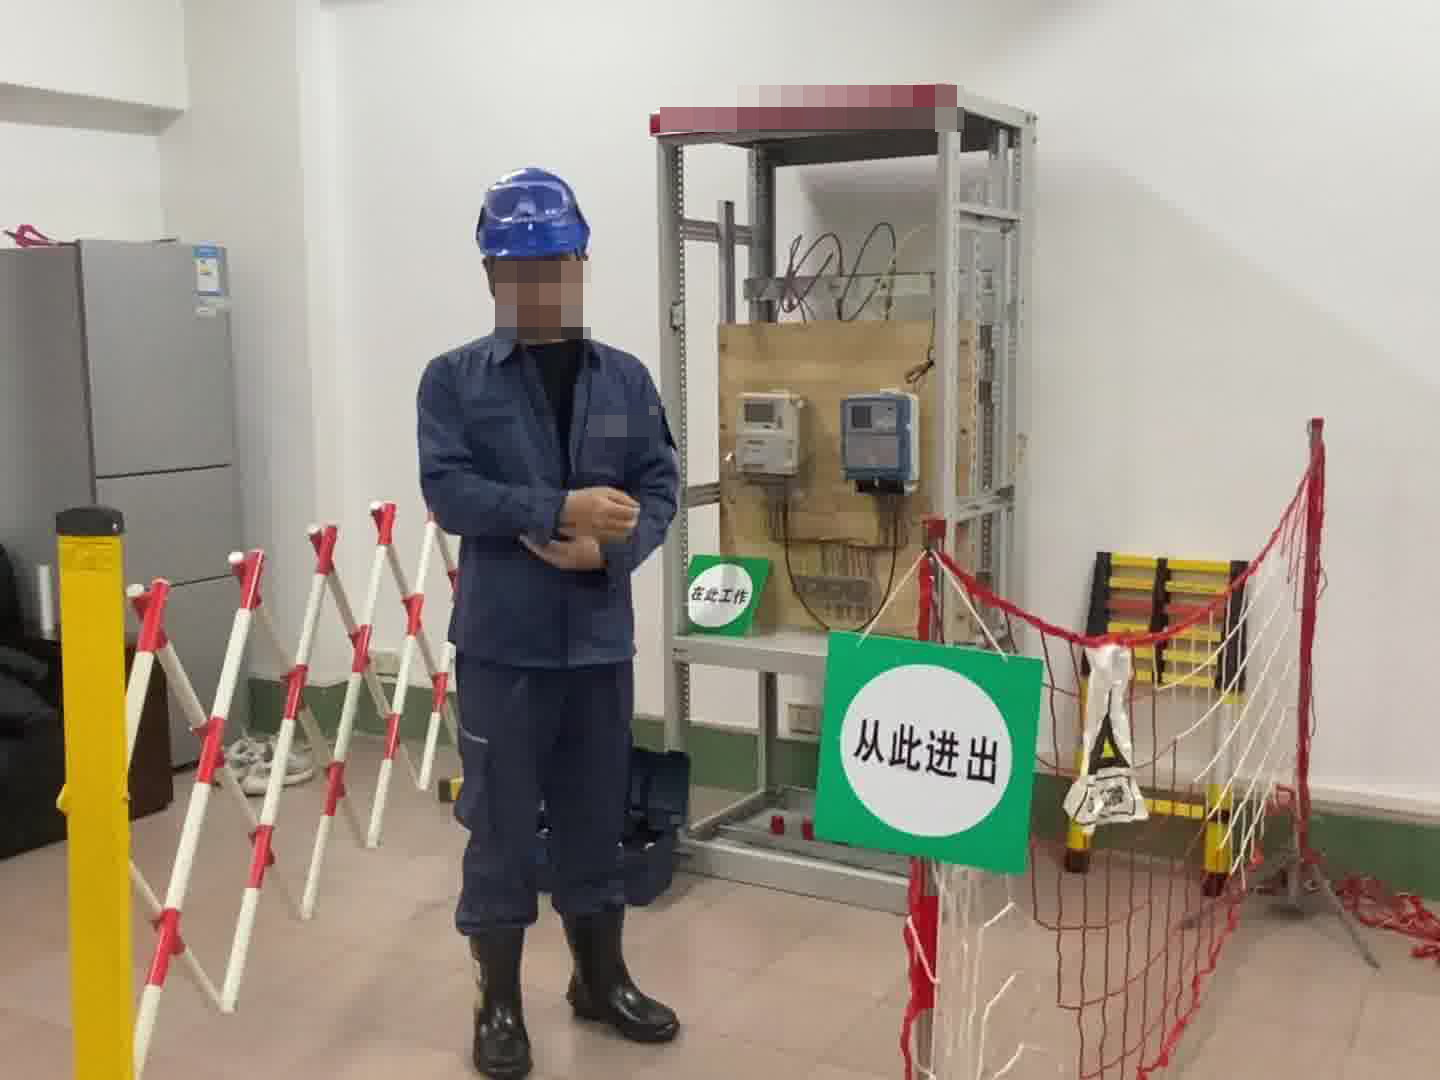downsuit: (445, 662, 649, 959)
halt: (473, 164, 599, 338)
hand: (548, 485, 642, 538), (517, 540, 603, 574)
intosign: (823, 636, 1038, 866)
person: (410, 158, 692, 1080)
shoe: (456, 901, 678, 1072)
upsuit: (411, 327, 677, 664)
worksign: (686, 550, 773, 639)
wrongsuit: (504, 336, 604, 500)
